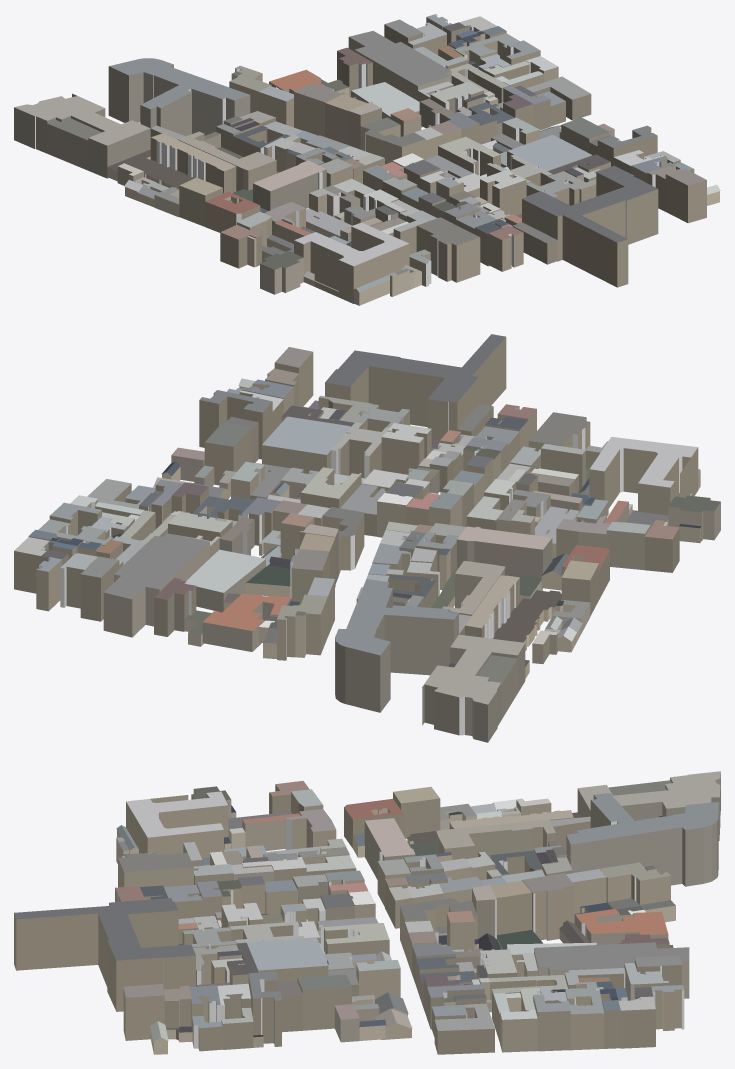
3 views of the same model, one above another, from view 1: azimuth 30°, elevation 25°; view 2: azimuth 150°, elevation 25°; view 3: azimuth 270°, elevation 25° (orthographic). The views are drawn at different scales.
Visible parts, largest first — view 1: tuile; view 2: tuile; view 3: tuile.
Part boxes in pixels (x1,y1,x2,y2): tuile: [14, 14, 720, 305]; tuile: [14, 334, 720, 742]; tuile: [14, 771, 720, 1054].
Size of the model in its own units: 275 by 29.95 by 322.
